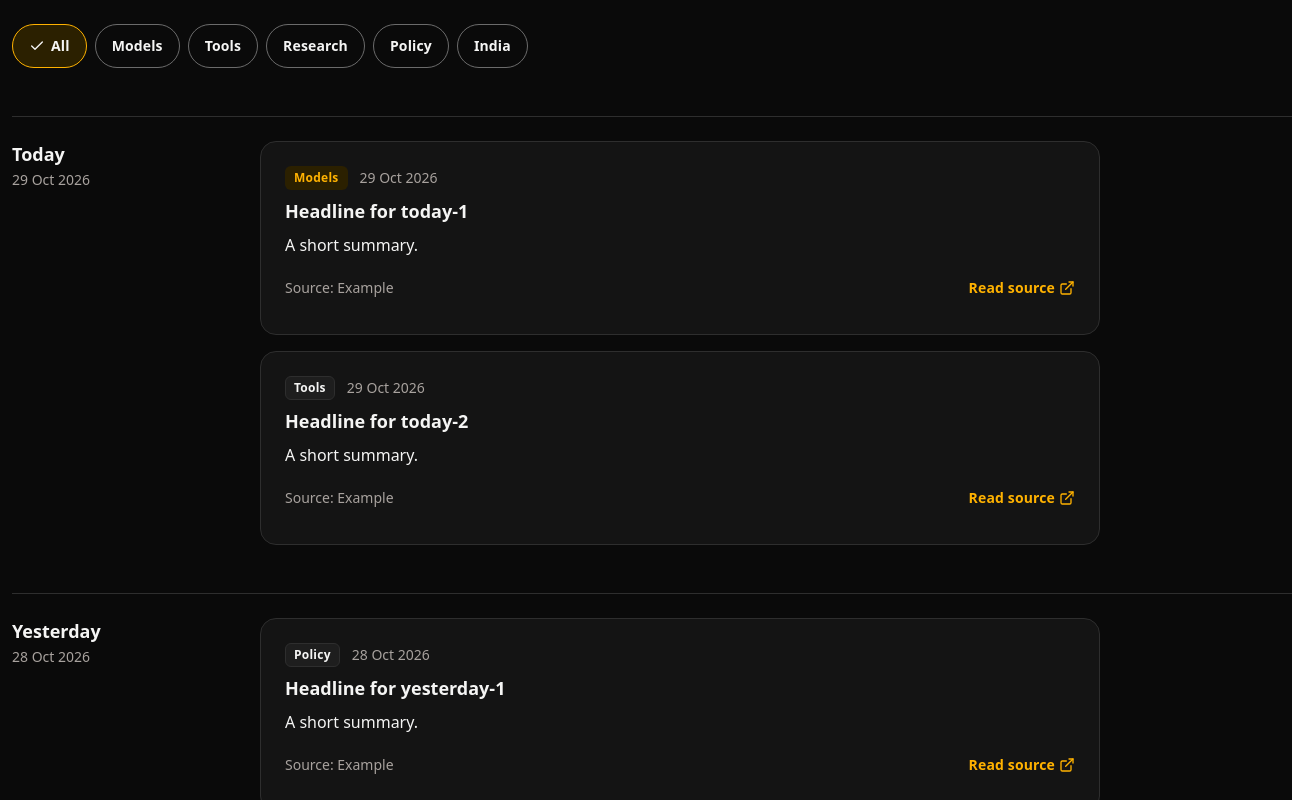
NewsBrowser › says so when a topic has no stories at all
Click the button "India": click(492, 46) [457,24,528,68]
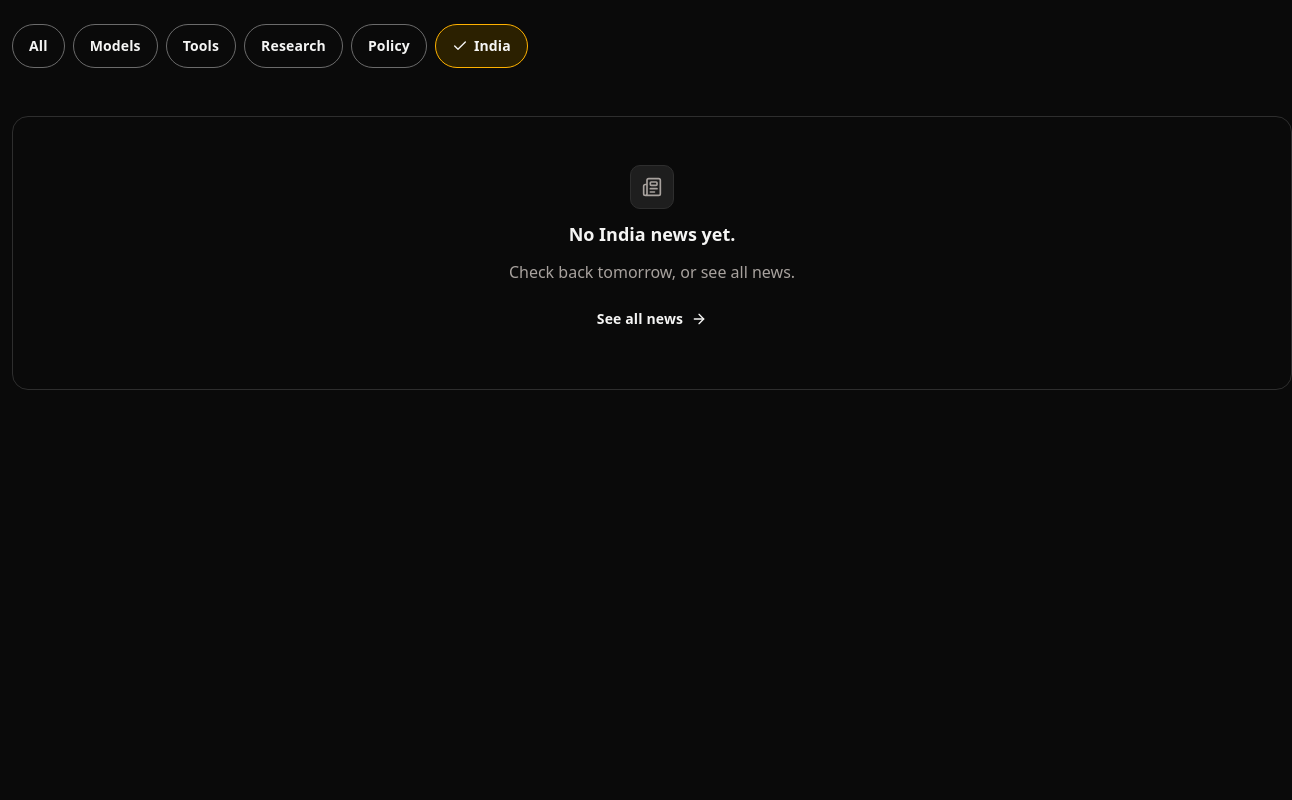
Result: the heading "No India news yet." is shown at [569,221,735,247]
